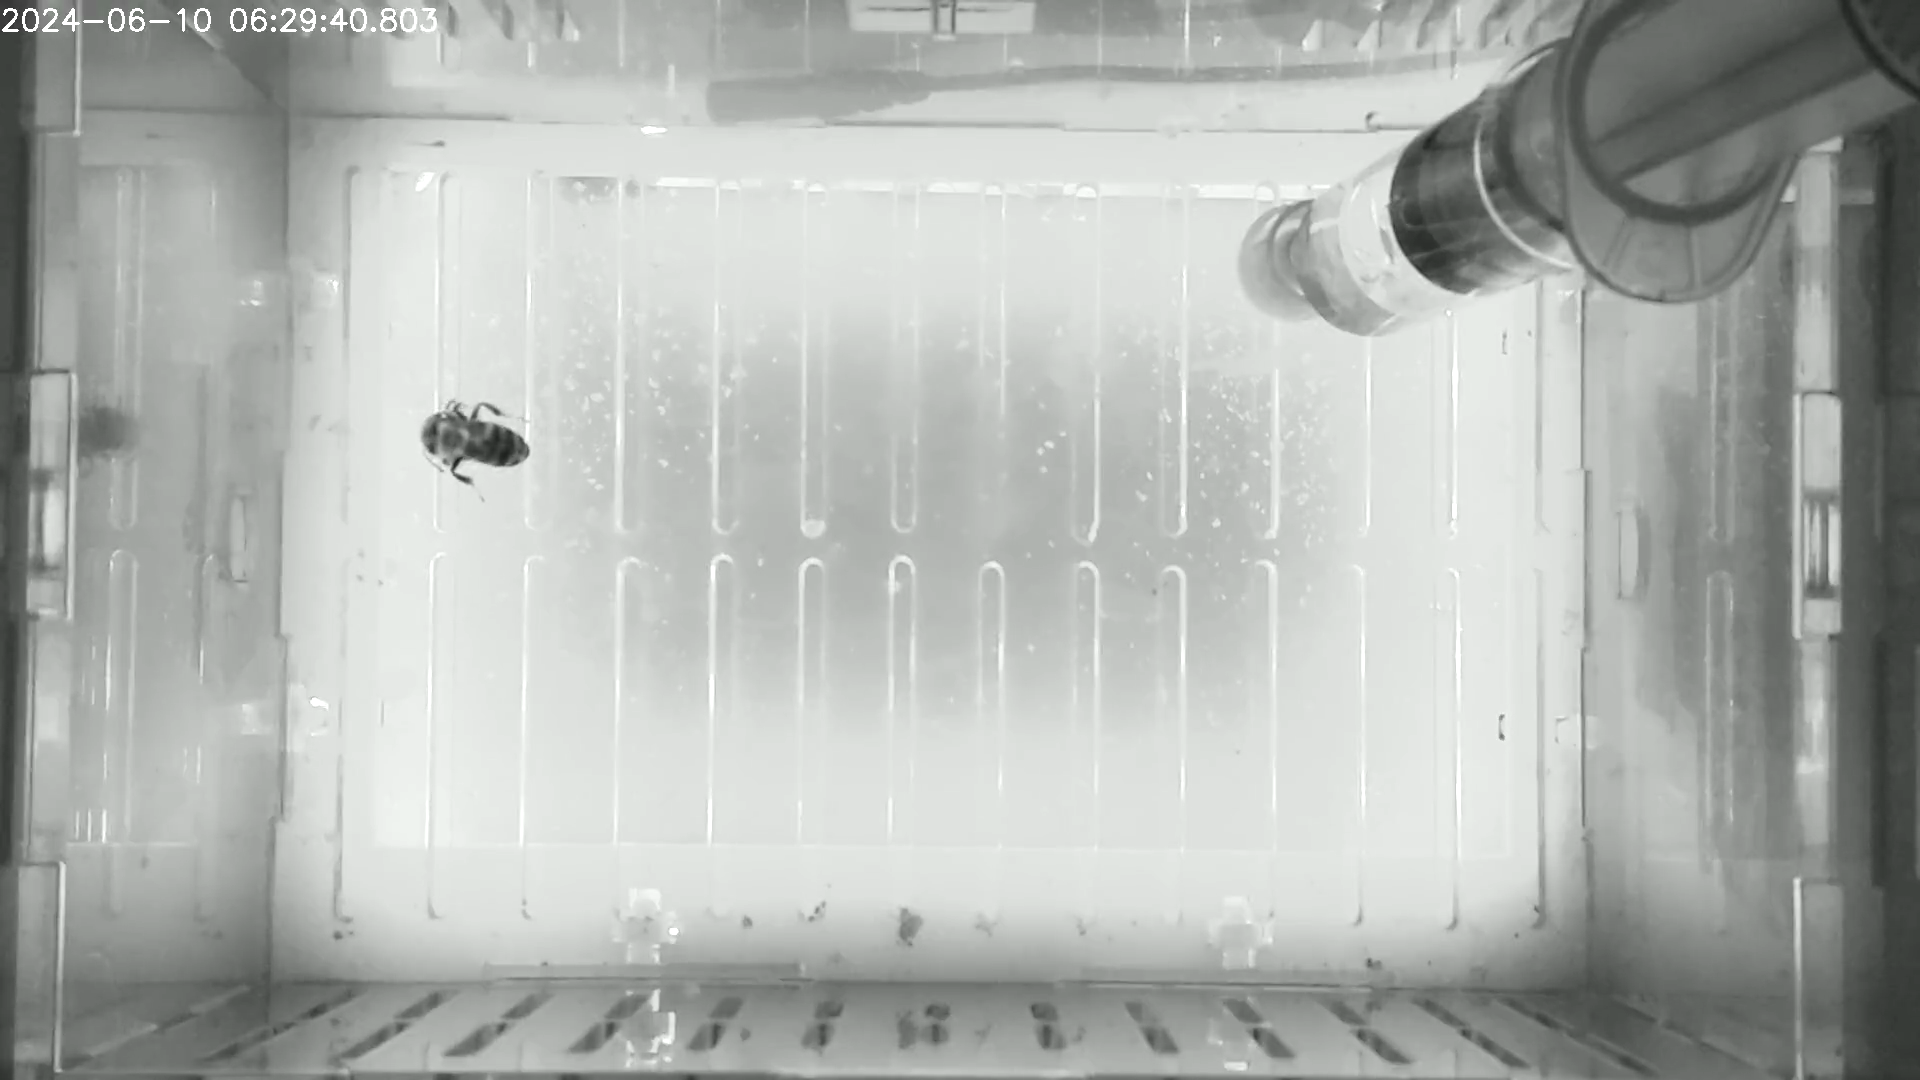bee: (418, 392, 539, 505)
feeder: (1291, 88, 1572, 348)
